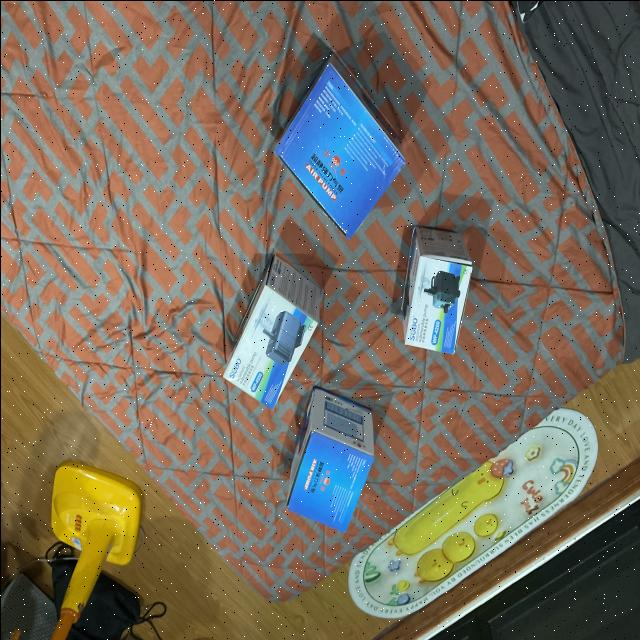SOBO_WP_4200: (192, 228, 332, 414), (393, 216, 488, 368)
YAMANO_LPP_20: (261, 41, 414, 249), (278, 377, 386, 550)
